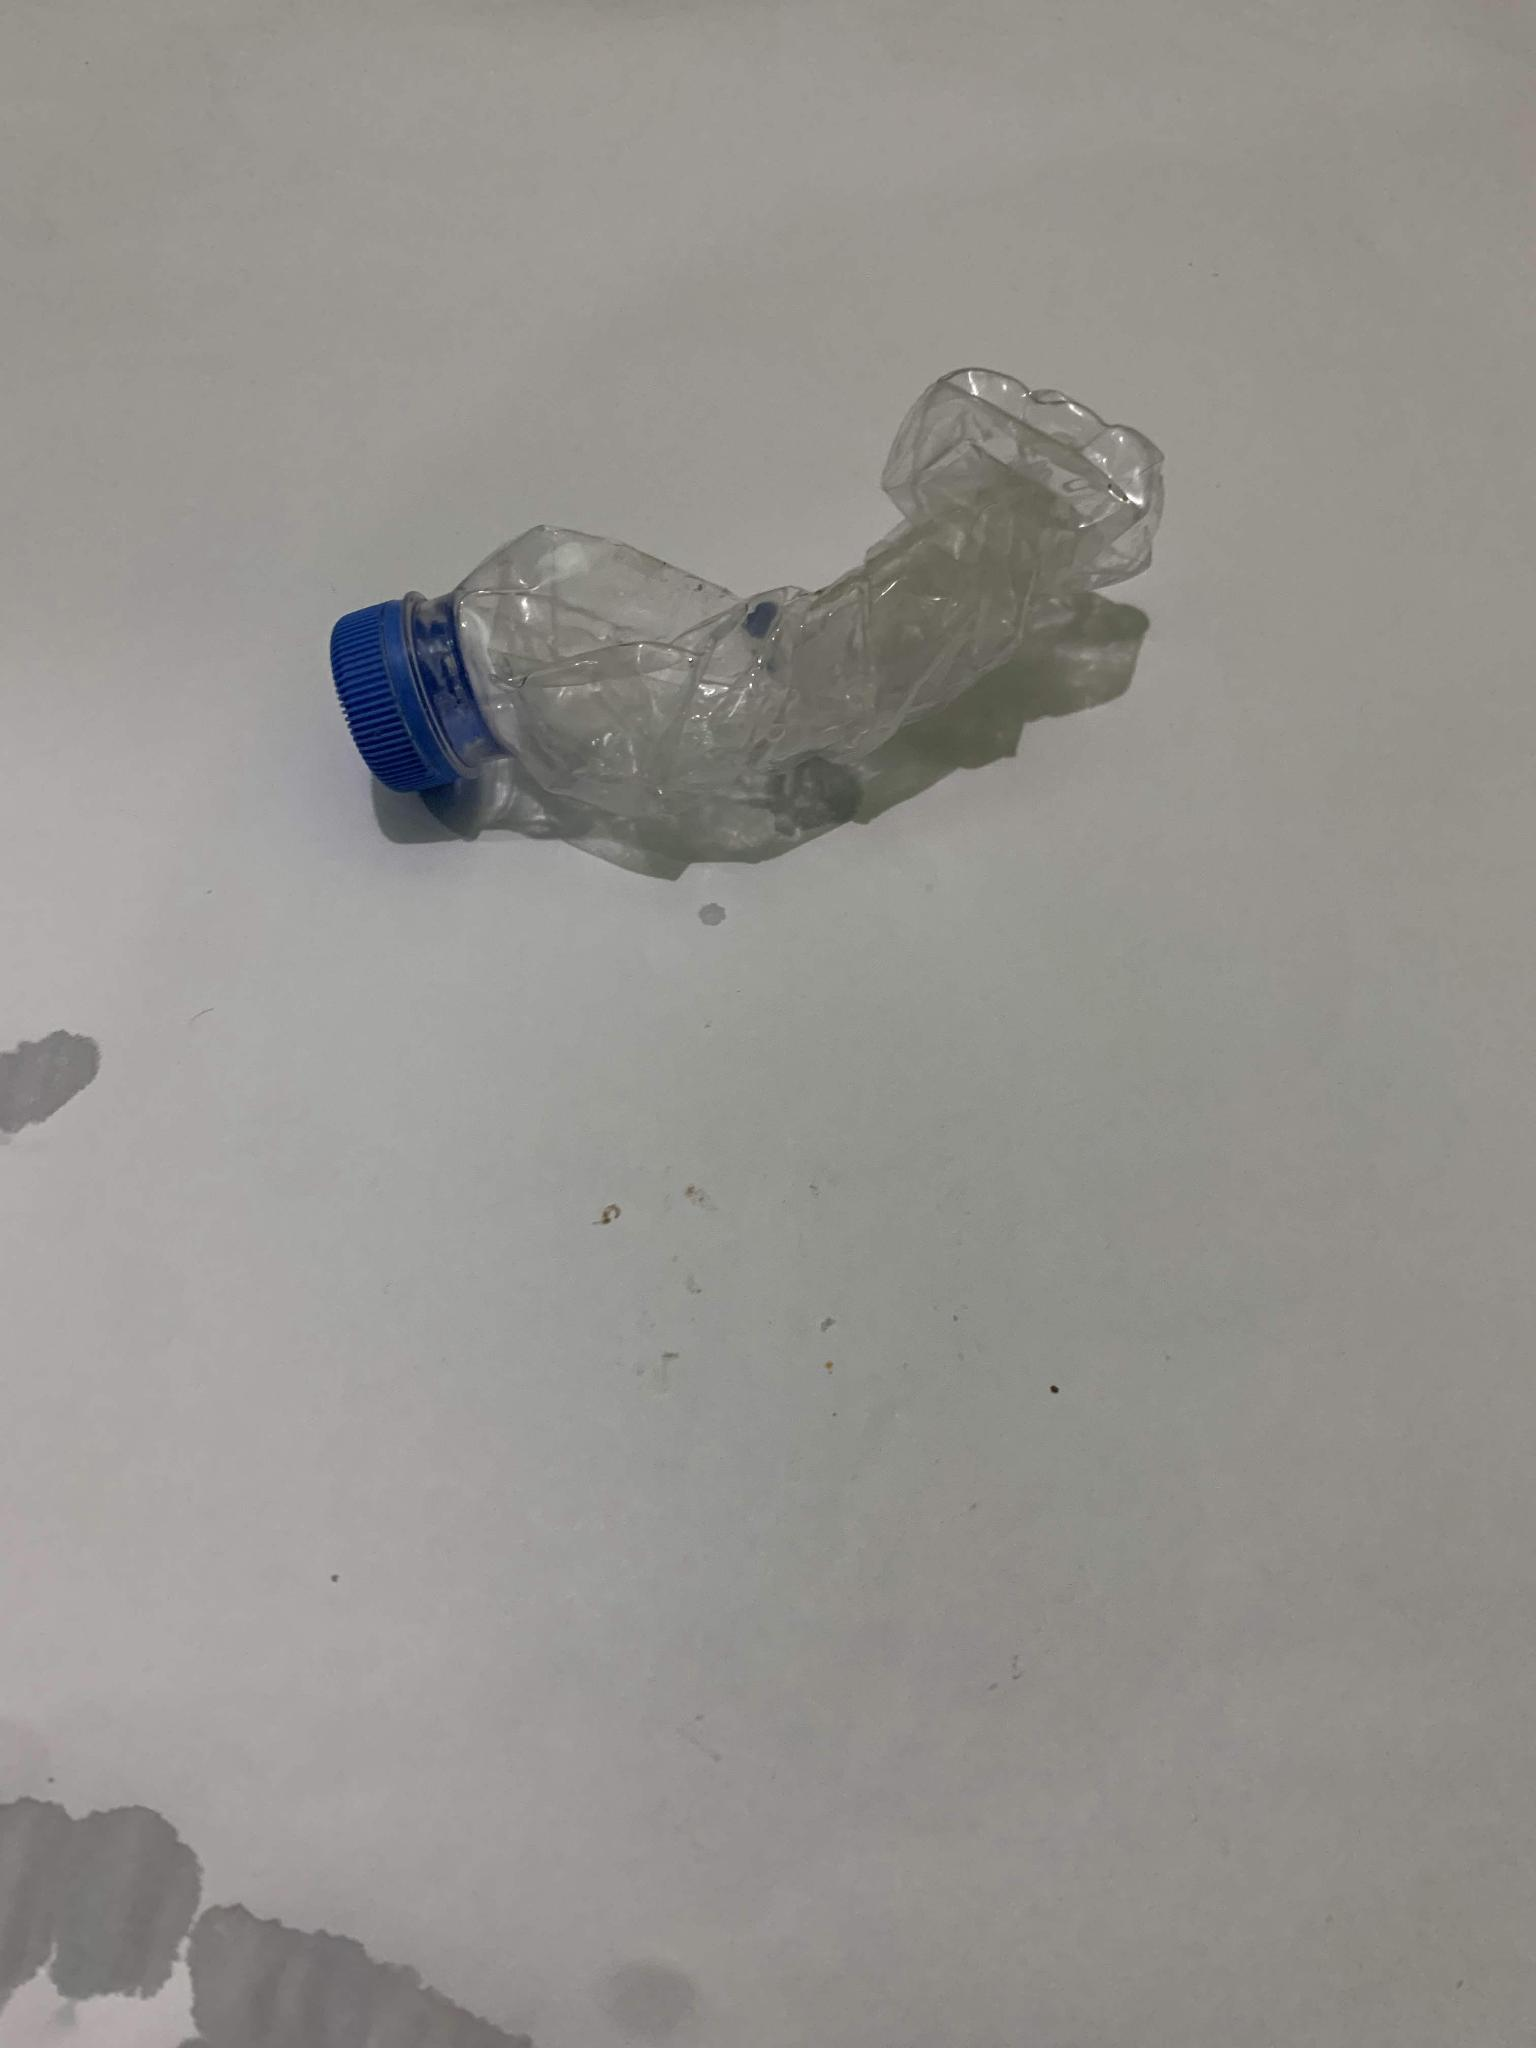bottle: (264, 350, 1238, 866)
